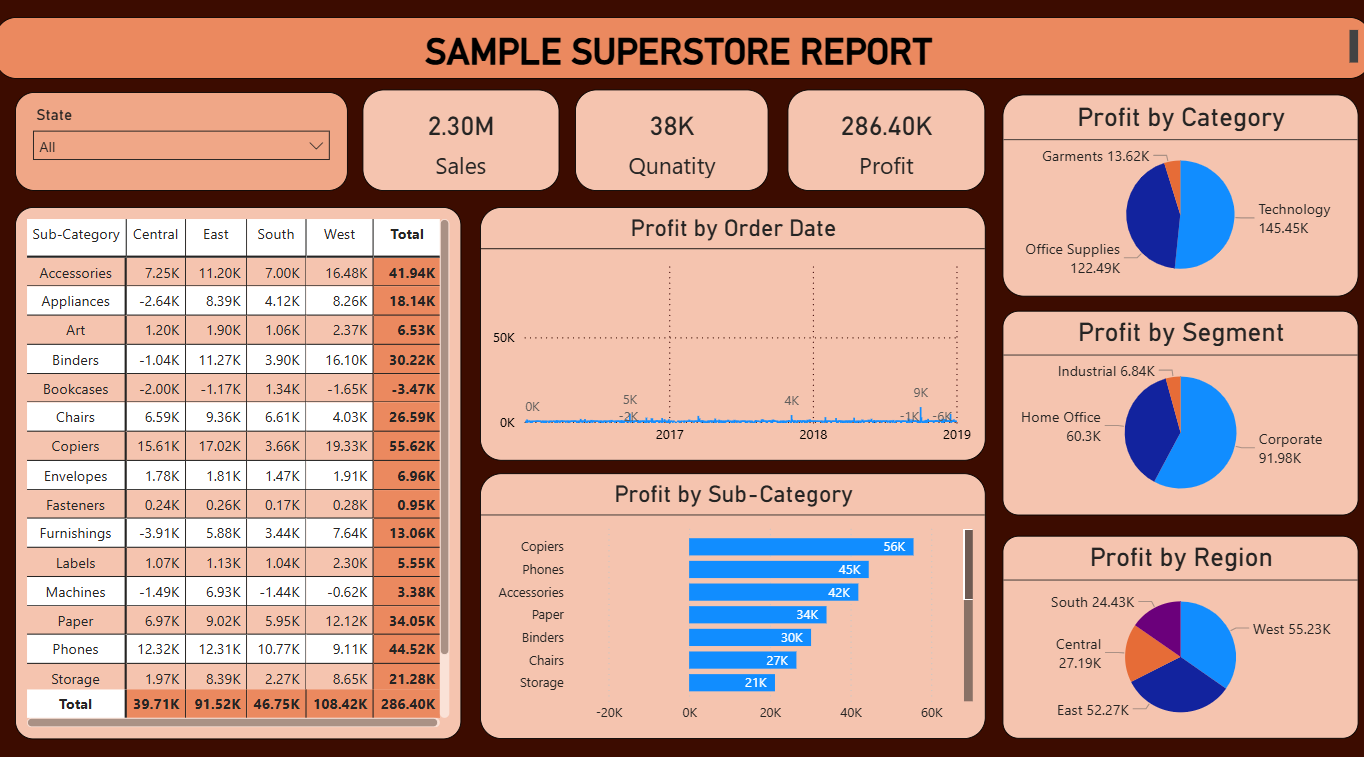

This screenshot's page, from the dashboard's own definition file:
{"tool":"powerbi","page":{"name":"Page 1","canvas":[1280,720],"ordinal":0},"visuals":[{"type":"textbox","box":[0,23.3,1280.3,57.6],"z":0},{"type":"slicer","fields":{"Values":["Orders.State"]},"box":[18.7,93.3,309.7,92.1],"z":1},{"type":"card","title":"Sales","fields":{"Values":["Sum(Orders.Sales)"]},"box":[342.1,90.8,182.9,94.5],"z":2},{"type":"pieChart","title":"Profit by Category","fields":{"Y":["Sum(Orders.Profit)"],"Category":["Orders.Category"]},"box":[936.7,95.8,330.9,187.8],"z":5},{"type":"pieChart","title":" Profit by Segment","fields":{"Category":["Orders.Segment"],"Y":["Sum(Orders.Profit)"]},"box":[936.7,296.1,330.9,190.3],"z":6},{"type":"pieChart","title":" Profit by Region","fields":{"Y":["Sum(Orders.Profit)"],"Category":["Orders.Region"]},"box":[936.7,506.3,330.9,189.1],"z":7},{"type":"pivotTable","fields":{"Columns":["Orders.Region"],"Values":["Sum(Orders.Profit)"],"Rows":["Orders.Sub-Category"]},"box":[18.7,200.3,415.5,495.1],"z":8},{"type":"card","title":"Sales","fields":{"Values":["Sum(Orders.Quantity)"]},"box":[539.9,90.8,180.4,94.5],"z":9},{"type":"card","title":"Sales","fields":{"Values":["Sum(Orders.Profit)"]},"box":[737.7,90.8,184.1,94.5],"z":10},{"type":"clusteredBarChart","title":"Profit by Sub-Category","fields":{"Category":["Orders.Sub-Category"],"Y":["Sum(Orders.Profit)"]},"box":[451.6,447.8,470.2,247.5],"z":11},{"type":"columnChart","title":" Profit by Order Date","fields":{"Category":["Orders.Order Date"],"Y":["Sum(Orders.Profit)"]},"box":[451.2,200,470,236.2],"z":12}]}

Visuals, with their boxes in screenshot pixels (x1, y1, x2, y2), scaled from the page's 1280x720 canvas onto the 1364x757 screenshot:
textbox: (x1=0, y1=24, x2=1363, y2=85)
slicer - Orders.State: (x1=20, y1=98, x2=350, y2=195)
"Sales" card: (x1=365, y1=95, x2=559, y2=195)
"Profit by Category" pieChart: (x1=998, y1=101, x2=1351, y2=298)
" Profit by Segment" pieChart: (x1=998, y1=311, x2=1351, y2=511)
" Profit by Region" pieChart: (x1=998, y1=532, x2=1351, y2=731)
pivotTable - Orders.Region x Sum(Orders.Profit): (x1=20, y1=211, x2=463, y2=731)
"Sales" card: (x1=575, y1=95, x2=768, y2=195)
"Sales" card: (x1=786, y1=95, x2=982, y2=195)
"Profit by Sub-Category" clusteredBarChart: (x1=481, y1=471, x2=982, y2=731)
" Profit by Order Date" columnChart: (x1=481, y1=210, x2=982, y2=459)
